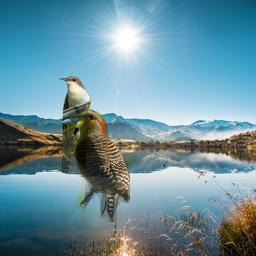Cuckoo: (59, 76, 92, 173)
Woodpecker: (68, 100, 130, 222)
